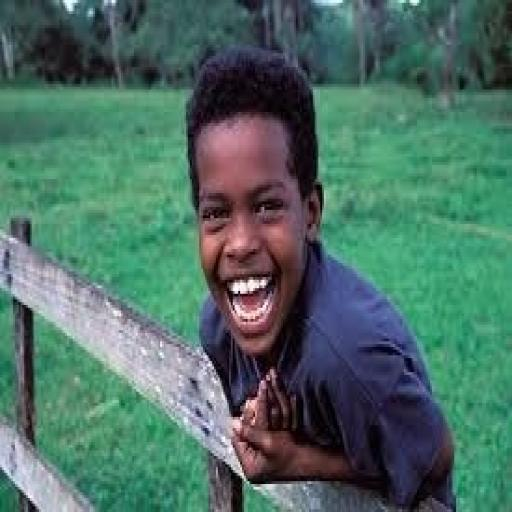laughing: (166, 40, 460, 506)
